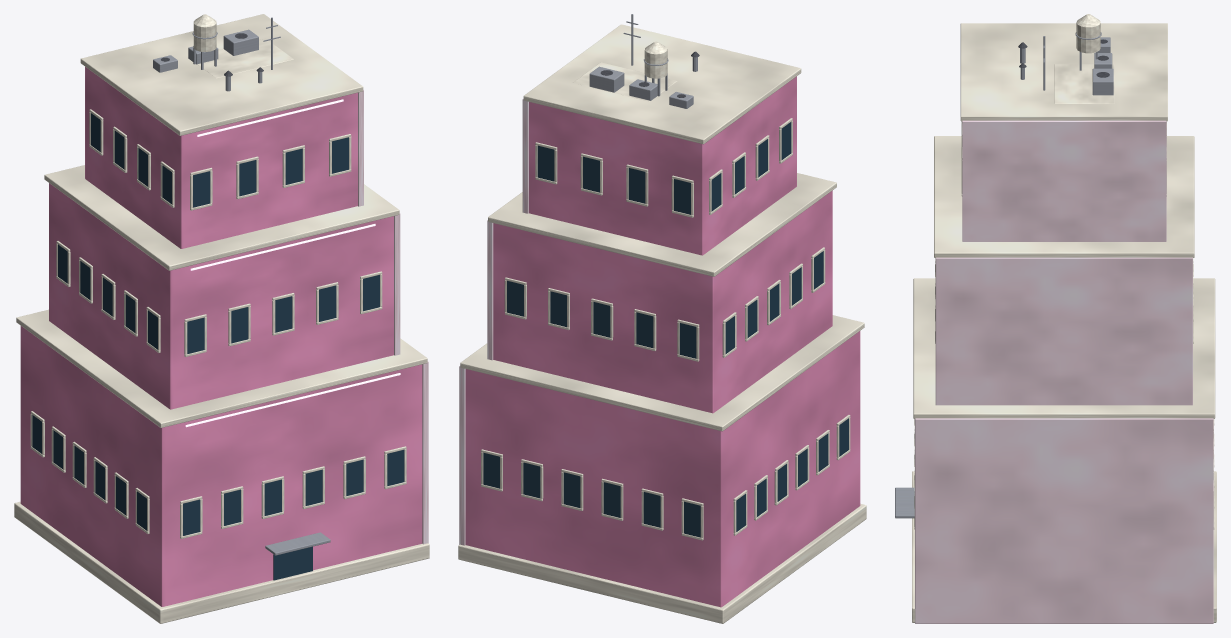
Rendered from bldg_deco_pink.glb.
3 views of the same model, side by side, from view 1: azimuth 30°, elevation 25°; view 2: azimuth 150°, elevation 25°; view 3: azimuth 270°, elevation 25° (orthographic). The views are drawn at different scales.
Visible parts, largest first — view 1: bldg_deco_pink_band_0_wall, bldg_deco_pink_band_1_wall, bldg_deco_pink_band_2_wall, bldg_deco_pink_band_2_cornice, bldg_deco_pink_band_1_cornice, bldg_deco_pink_band_0_cornice, bldg_deco_pink_plinth, bldg_deco_pink_roof_curb, bldg_deco_pink_band_0_pilaster, bldg_deco_pink_entrance, bldg_deco_pink_band_1_pilaster, bldg_deco_pink_canopy (+16 smaller); view 2: bldg_deco_pink_band_0_wall, bldg_deco_pink_band_1_wall, bldg_deco_pink_band_2_wall, bldg_deco_pink_band_2_cornice, bldg_deco_pink_band_1_cornice, bldg_deco_pink_band_0_cornice, bldg_deco_pink_plinth, bldg_deco_pink_band_0_pilaster, bldg_deco_pink_band_1_pilaster, bldg_deco_pink_roof_curb, bldg_deco_pink_band_2_pilaster, bldg_deco_pink_ac_2_case (+10 smaller); view 3: bldg_deco_pink_band_0_pilaster, bldg_deco_pink_band_1_pilaster, bldg_deco_pink_band_2_pilaster, bldg_deco_pink_band_2_cornice, bldg_deco_pink_band_1_cornice, bldg_deco_pink_band_0_cornice, bldg_deco_pink_roof_curb, bldg_deco_pink_plinth, bldg_deco_pink_tank_a_barrel, bldg_deco_pink_canopy, bldg_deco_pink_ac_2_case.
Boxes of the visible parts, <box> form: bldg_deco_pink_band_0_wall: <box>20,326,422,606</box>; bldg_deco_pink_band_1_wall: <box>49,183,393,409</box>; bldg_deco_pink_band_2_wall: <box>85,67,357,248</box>; bldg_deco_pink_band_2_cornice: <box>80,14,363,135</box>; bldg_deco_pink_band_1_cornice: <box>44,165,399,270</box>; bldg_deco_pink_band_0_cornice: <box>16,309,427,427</box>; bldg_deco_pink_plinth: <box>14,501,429,623</box>; bldg_deco_pink_roof_curb: <box>188,38,293,78</box>; bldg_deco_pink_band_0_pilaster: <box>422,361,428,544</box>; bldg_deco_pink_entrance: <box>273,546,312,580</box>; bldg_deco_pink_band_1_pilaster: <box>394,213,400,355</box>; bldg_deco_pink_canopy: <box>265,532,330,555</box>; bldg_deco_pink_band_0_wall: <box>465,331,860,607</box>; bldg_deco_pink_band_1_wall: <box>493,190,832,413</box>; bldg_deco_pink_band_2_wall: <box>529,76,796,255</box>; bldg_deco_pink_band_2_cornice: <box>523,24,801,144</box>; bldg_deco_pink_band_1_cornice: <box>488,173,836,276</box>; bldg_deco_pink_band_0_cornice: <box>460,315,864,431</box>; bldg_deco_pink_plinth: <box>458,503,866,623</box>; bldg_deco_pink_band_0_pilaster: <box>459,366,465,545</box>; bldg_deco_pink_band_1_pilaster: <box>487,220,493,360</box>; bldg_deco_pink_roof_curb: <box>573,62,676,101</box>; bldg_deco_pink_band_2_pilaster: <box>522,99,528,213</box>; bldg_deco_pink_ac_2_case: <box>589,66,624,92</box>; bldg_deco_pink_band_0_pilaster: <box>915,418,1213,623</box>; bldg_deco_pink_band_1_pilaster: <box>935,257,1192,405</box>; bldg_deco_pink_band_2_pilaster: <box>962,120,1166,241</box>; bldg_deco_pink_band_2_cornice: <box>960,23,1167,121</box>; bldg_deco_pink_band_1_cornice: <box>934,136,1194,257</box>; bldg_deco_pink_band_0_cornice: <box>913,278,1215,418</box>; bldg_deco_pink_roof_curb: <box>1054,64,1114,103</box>; bldg_deco_pink_plinth: <box>912,471,1216,622</box>; bldg_deco_pink_tank_a_barrel: <box>1076,23,1100,53</box>; bldg_deco_pink_canopy: <box>895,487,914,518</box>; bldg_deco_pink_ac_2_case: <box>1092,68,1113,95</box>.
Bounding box in the file's own units: 16.51 × 30.27 × 16.35.
Materials: 7 (7 with a texture image).
